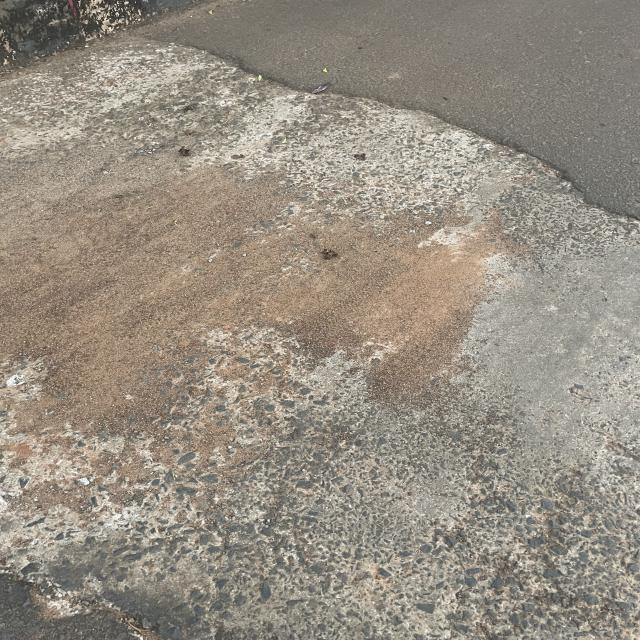D11: (191, 21, 640, 252)
D43: (34, 468, 639, 640)
